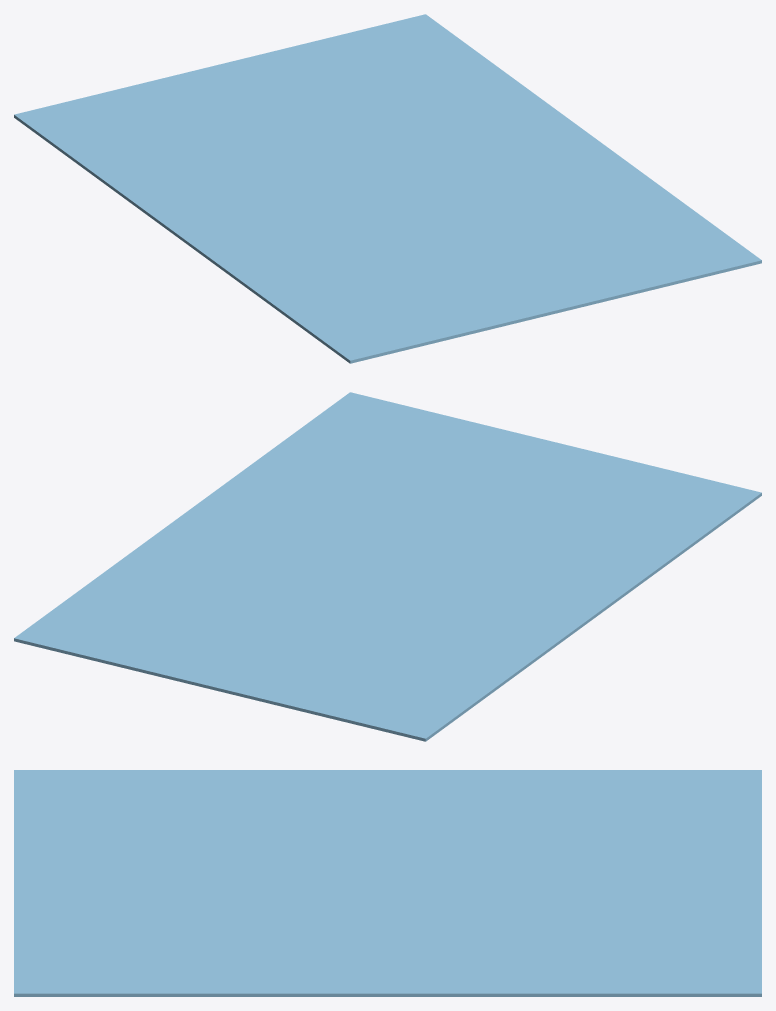
File: welding_sample.obj
The picture shows the model from 3 angles, top to bottom: view 1: azimuth 30°, elevation 25°; view 2: azimuth 150°, elevation 25°; view 3: azimuth 270°, elevation 25°; orthographic projection. The views are drawn at different scales.
Parts seen in each view (by area): view 1: mesh5, mesh3, mesh0; view 2: mesh5, mesh1, mesh0; view 3: mesh5, mesh2.
Part boxes in pixels (bbox=[...]): mesh5: bbox=[14, 14, 761, 360]; mesh3: bbox=[350, 260, 761, 363]; mesh0: bbox=[14, 115, 350, 363]; mesh5: bbox=[14, 392, 761, 738]; mesh1: bbox=[14, 638, 425, 741]; mesh0: bbox=[425, 493, 761, 741]; mesh5: bbox=[14, 770, 761, 993]; mesh2: bbox=[14, 993, 761, 996].
Size of the model in its own units: 0.42 by 0.009 by 0.594.
